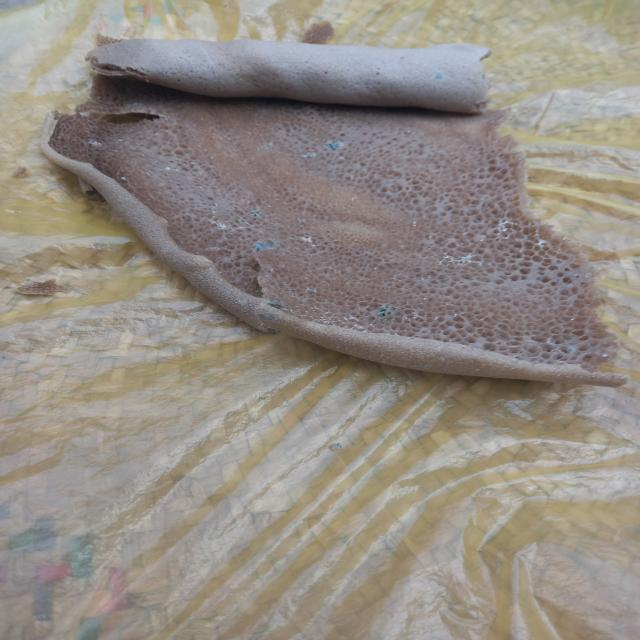injera_mold: (317, 316, 369, 332), (436, 254, 492, 266), (250, 239, 277, 254), (497, 216, 513, 241), (531, 230, 550, 251), (372, 304, 396, 318), (210, 219, 234, 233), (258, 299, 293, 308), (258, 322, 280, 335), (254, 310, 278, 320), (299, 233, 315, 246), (400, 312, 420, 322), (324, 141, 346, 150), (248, 207, 264, 219), (298, 151, 318, 160), (562, 347, 579, 357), (294, 216, 307, 229), (434, 354, 449, 364), (163, 166, 183, 173), (86, 139, 103, 147), (304, 284, 316, 294), (433, 72, 443, 84), (129, 100, 143, 108), (263, 141, 274, 150), (240, 300, 250, 309), (548, 338, 560, 345), (300, 310, 312, 317), (222, 256, 230, 266), (238, 224, 246, 233), (602, 352, 610, 360), (121, 174, 128, 183), (568, 316, 578, 322), (555, 373, 566, 378), (478, 238, 485, 245), (464, 232, 470, 240), (110, 149, 121, 153), (412, 220, 418, 227), (372, 266, 379, 272), (268, 265, 274, 272), (364, 304, 372, 309), (351, 196, 360, 200), (340, 154, 345, 160), (369, 322, 373, 329), (474, 368, 481, 372), (453, 312, 458, 317), (116, 138, 124, 141), (422, 297, 428, 301), (276, 292, 284, 295)
